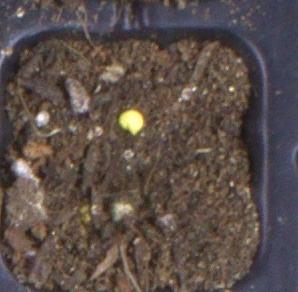chilli seed: (117, 109, 144, 135)
